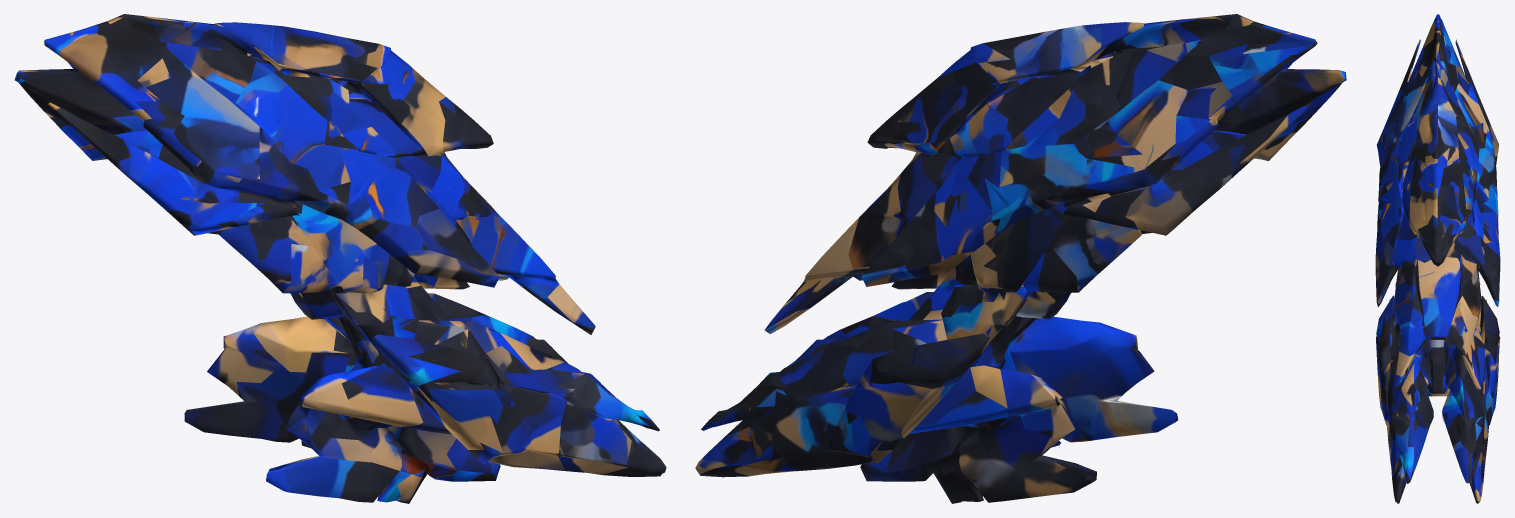
File: DefenseFrontRight.gltf
3 renders of one model, left to right at view 1: azimuth 30°, elevation 25°; view 2: azimuth 150°, elevation 25°; view 3: azimuth 270°, elevation 25°, orthographic. The views are drawn at different scales.
Visible parts, largest first — view 1: DefenseFrontRight; view 2: DefenseFrontRight; view 3: DefenseFrontRight.
Part boxes in pixels (<box>): DefenseFrontRight: <box>14,14,666,503</box>; DefenseFrontRight: <box>695,14,1346,503</box>; DefenseFrontRight: <box>1375,14,1500,503</box>.
Bounding box in the file's own units: 0.3551 × 0.3059 × 0.1059.
Materials: 1 (1 with a texture image).
